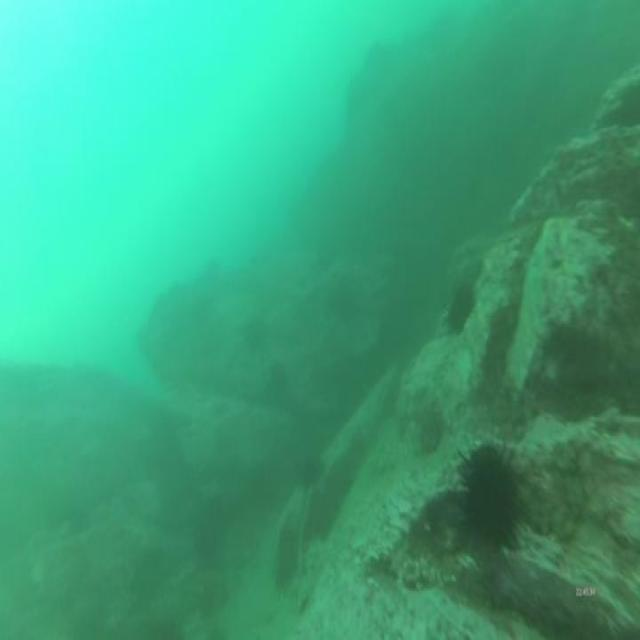echinus: (451, 441, 529, 558), (440, 280, 477, 338), (243, 314, 271, 364), (297, 452, 328, 495), (266, 356, 292, 396)
